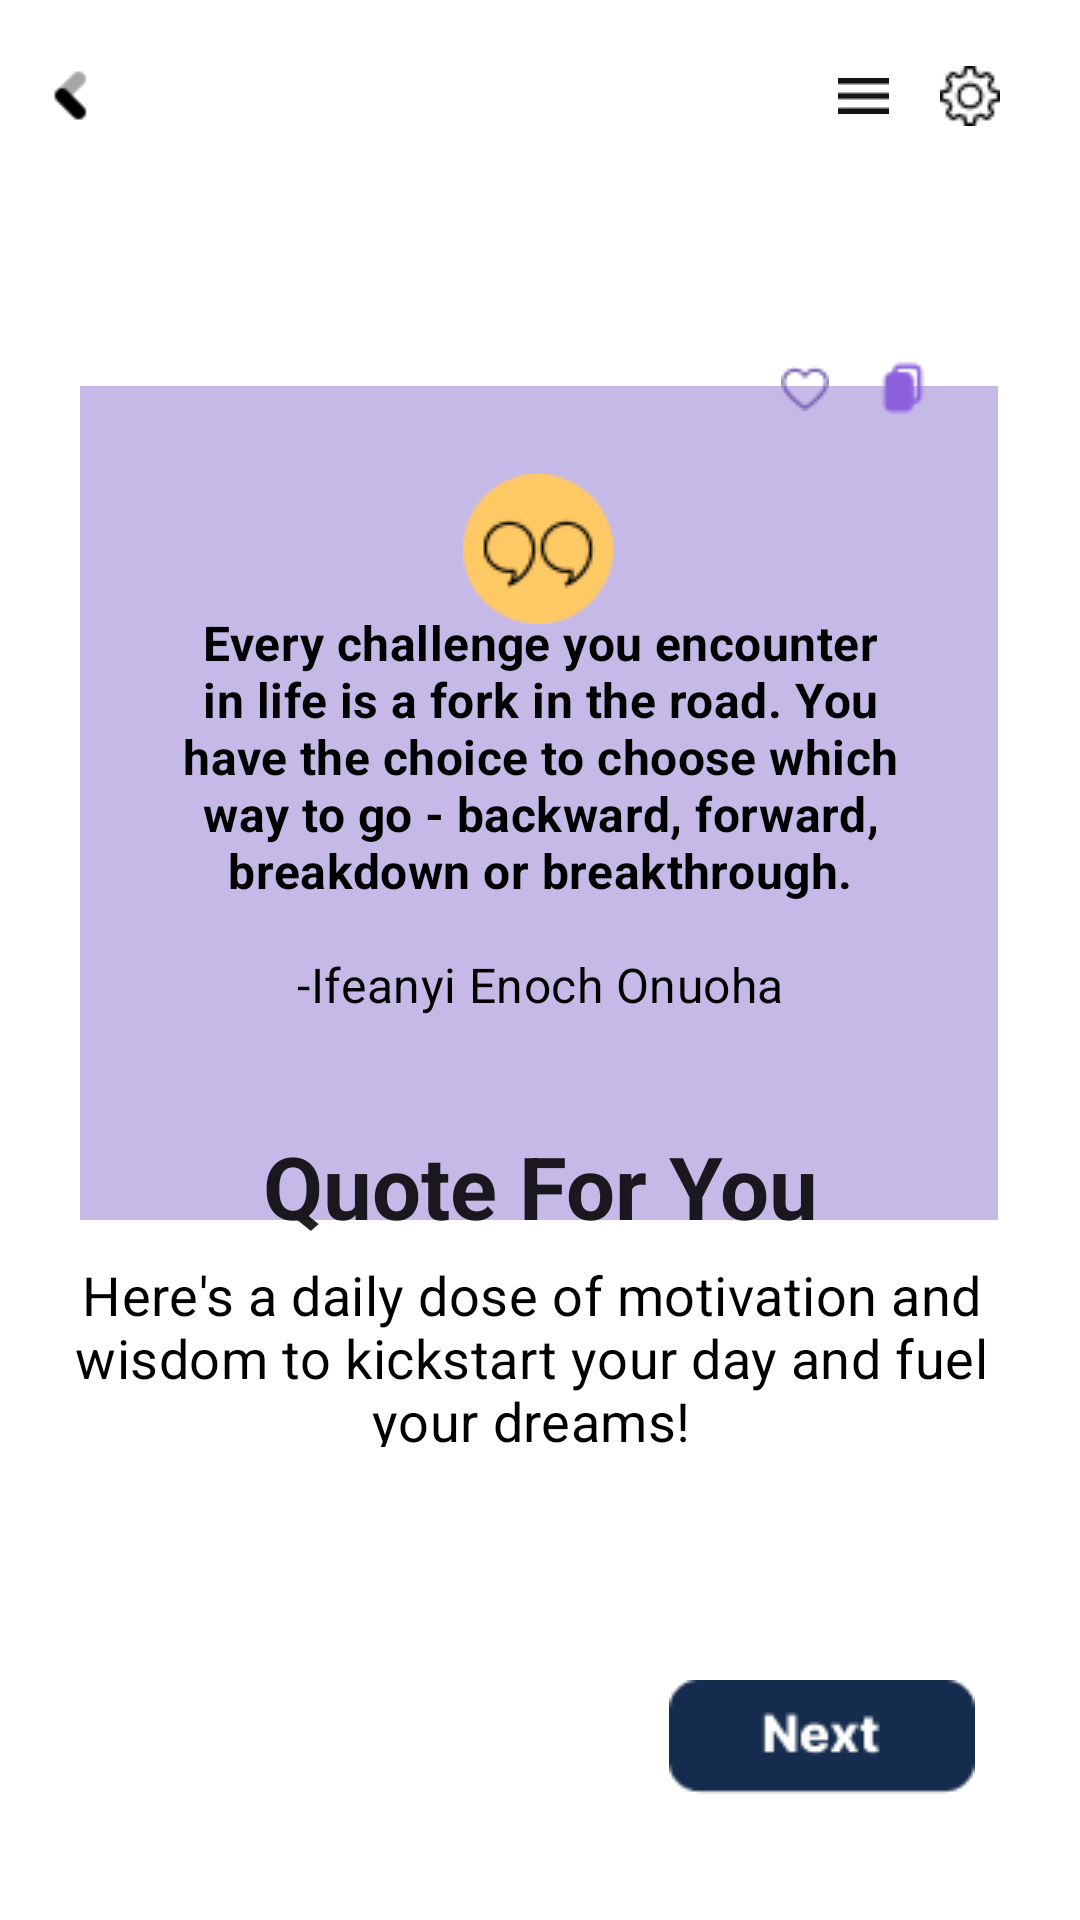

Icons on this 1080 × 1920 Android screen, each with its box as [left=x1, top=y1, right=x2, bottom=y2]:
back: [left=54, top=71, right=87, bottom=120]
menu: [left=838, top=78, right=889, bottom=114]
qoutemark: [left=463, top=474, right=613, bottom=624]
settings: [left=940, top=66, right=1000, bottom=126]
